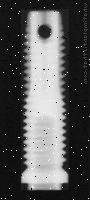Sterngold: (21, 9, 69, 190)
